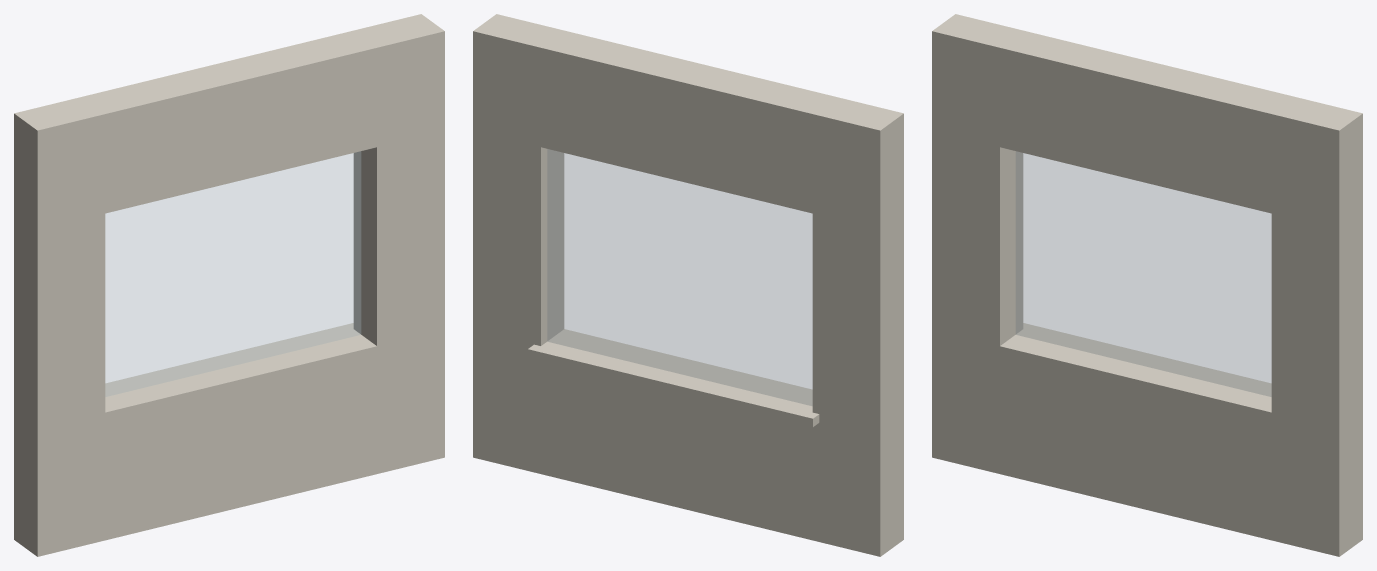
The model's file is fac_stone_win_c.glb.
3 renders of one model, left to right at view 1: azimuth 30°, elevation 25°; view 2: azimuth 150°, elevation 25°; view 3: azimuth 330°, elevation 25°, orthographic.
Parts seen in each view (by area): view 1: fac_stone_win_c; view 2: fac_stone_win_c; view 3: fac_stone_win_c.
Boxes of the visible parts, bbox=[...] form: fac_stone_win_c: bbox=[14, 14, 444, 556]; fac_stone_win_c: bbox=[473, 14, 903, 556]; fac_stone_win_c: bbox=[932, 14, 1362, 556].
Size of what is drawn, in the model's own units: 3 by 3 by 0.38.
